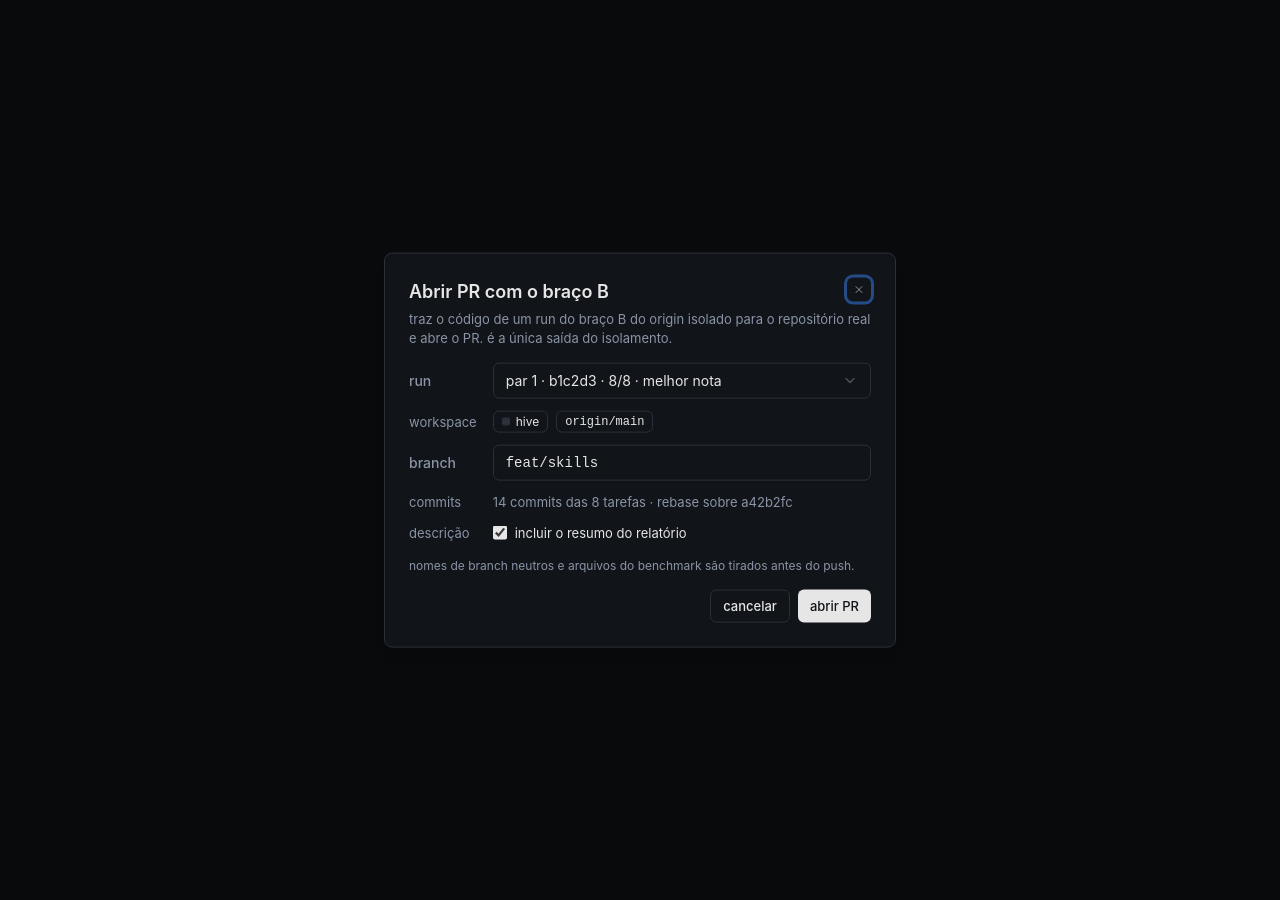
Test case: the picker lists every ended run under its arm with its status; picking another reloads its preview and the title follows its arm (#477)
This screenshot has width=1280, height=900.
Click the dropdown named "run": coordinates (682, 381) [493,363,871,399]
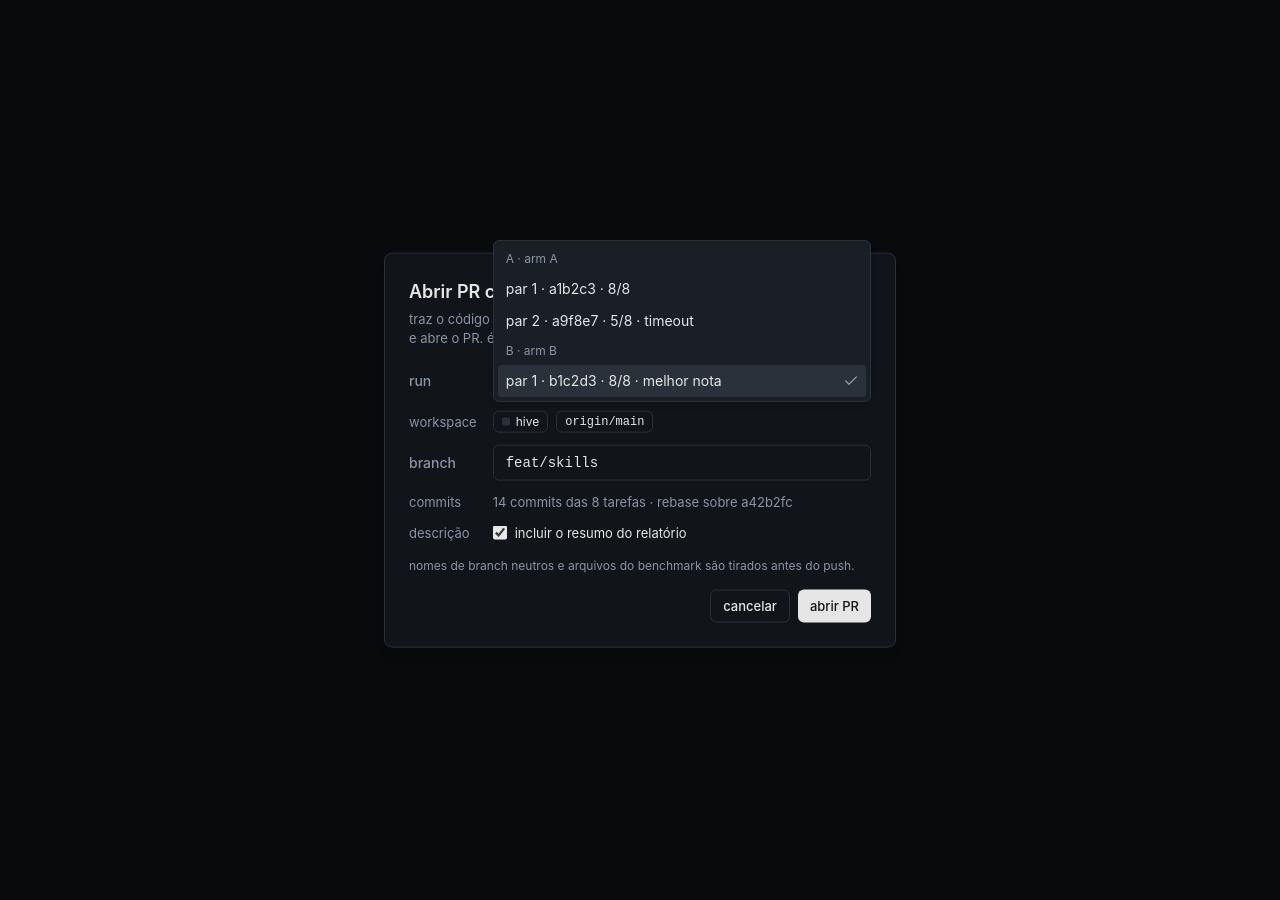
Check: the options read "par 1 · a1b2c3 · 8/8", "par 2 · a9f8e7 · 5/8 · timeout", "par 1 · b1c2d3 · 8/8 · melhor nota", in this order
Click the option "par 1 · a1b2c3 · 8/8": coordinates (568, 288) [506,280,630,297]
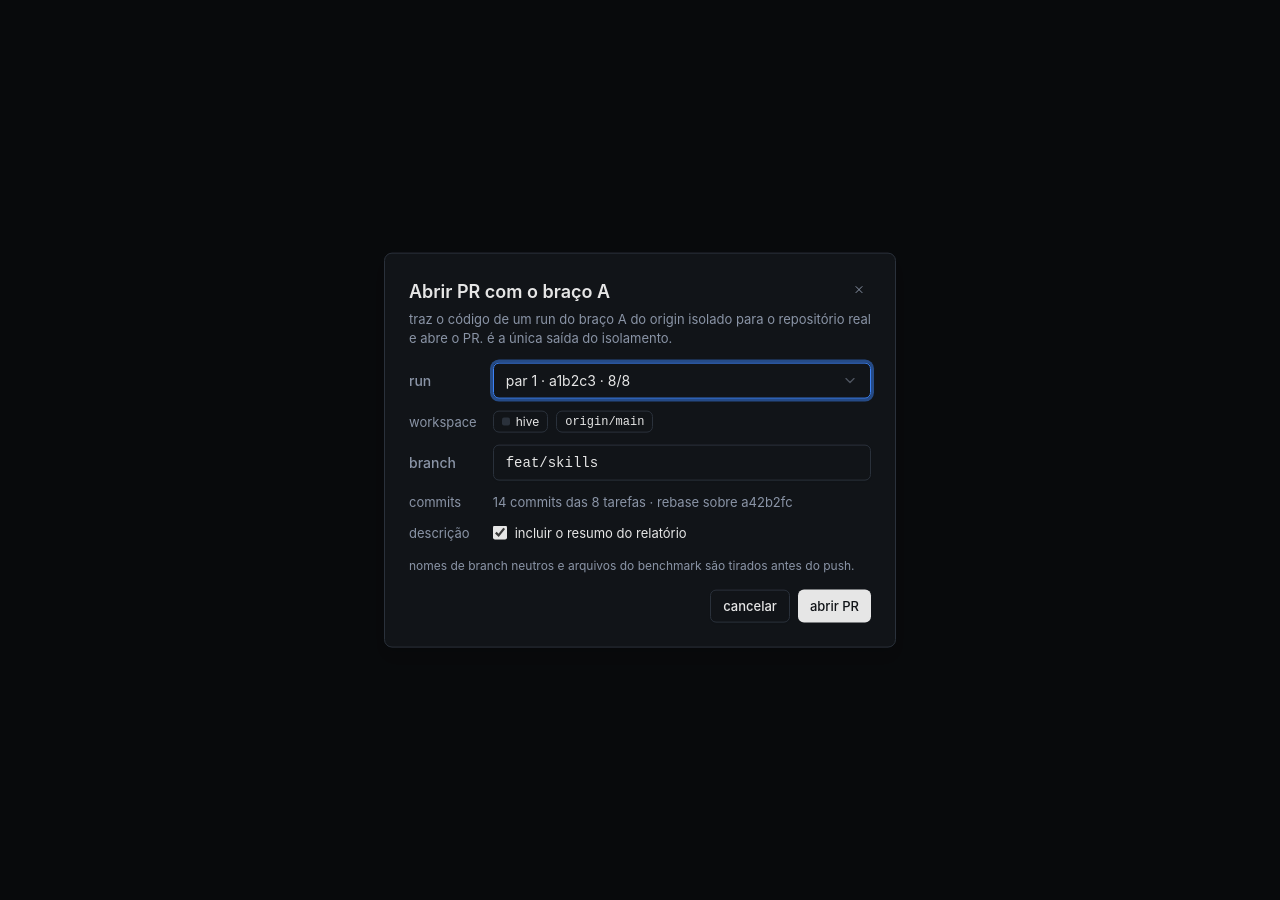
Check: the dialog "Abrir PR com o braço A" is shown, box [384,253,896,647]
